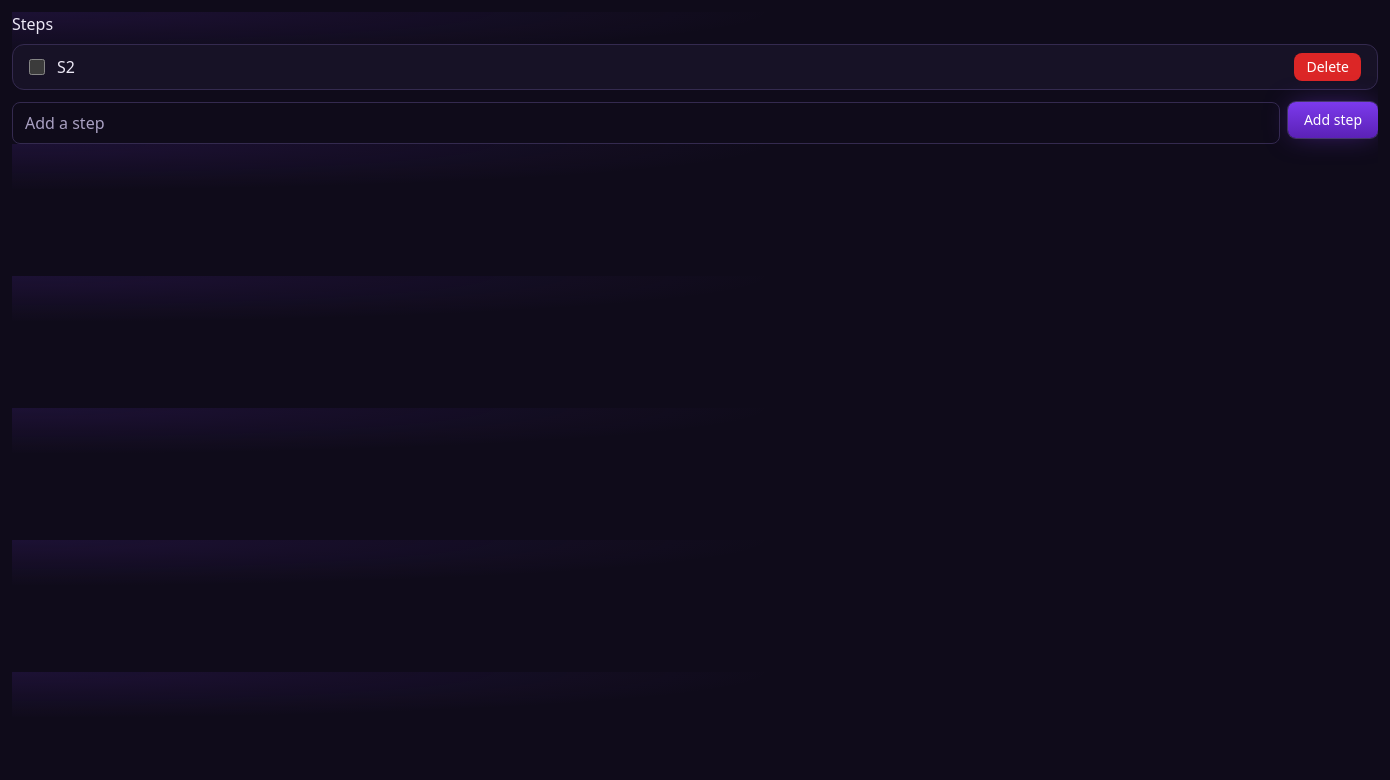
TaskSteps › puts the box back when ticking fails
Click the checkbox at (37, 67), box [29, 59, 45, 75]
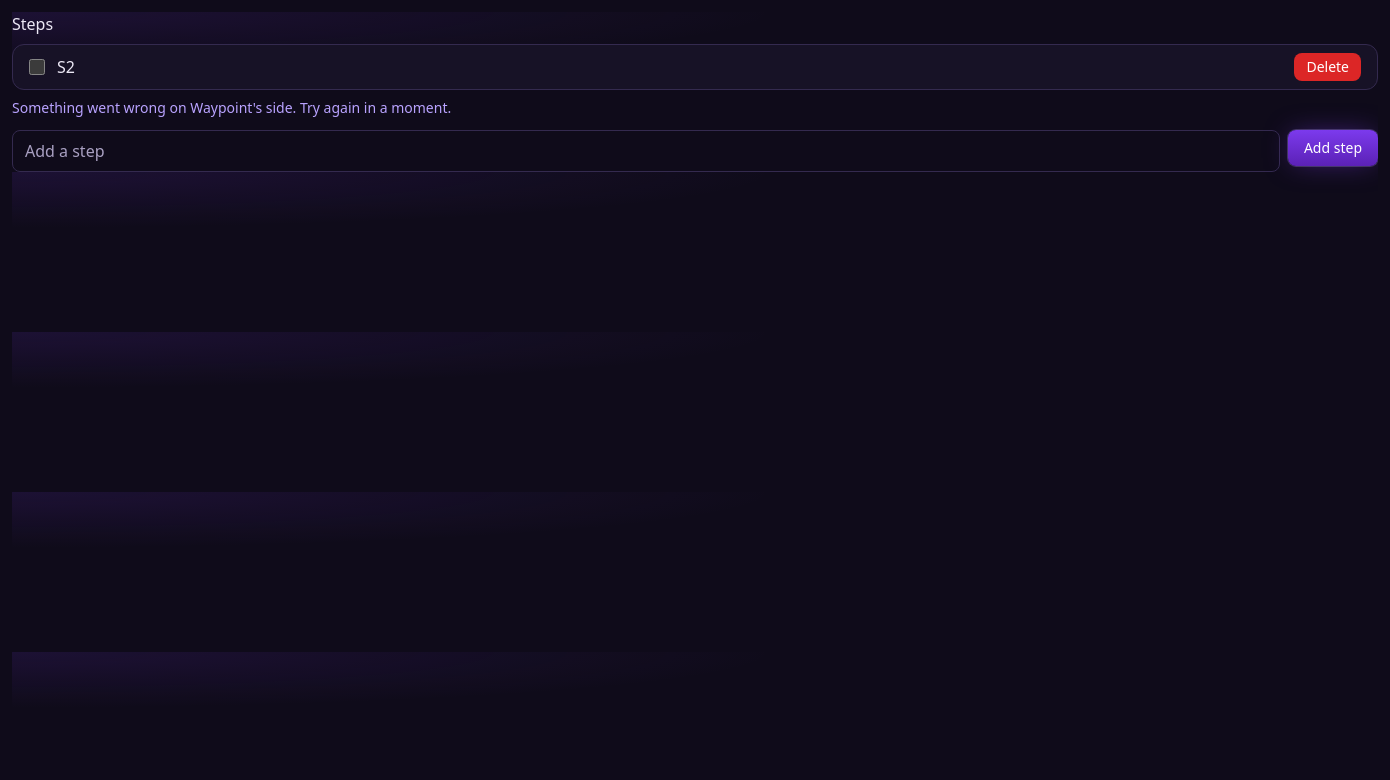
Result: the text "Something went wrong on Waypoint's side. Try again in a moment." is shown at [12, 98, 451, 117]
